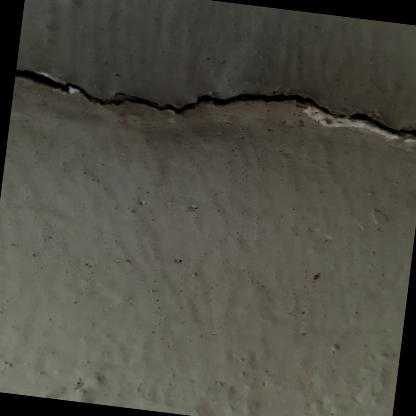crack: (15, 66, 416, 135)
